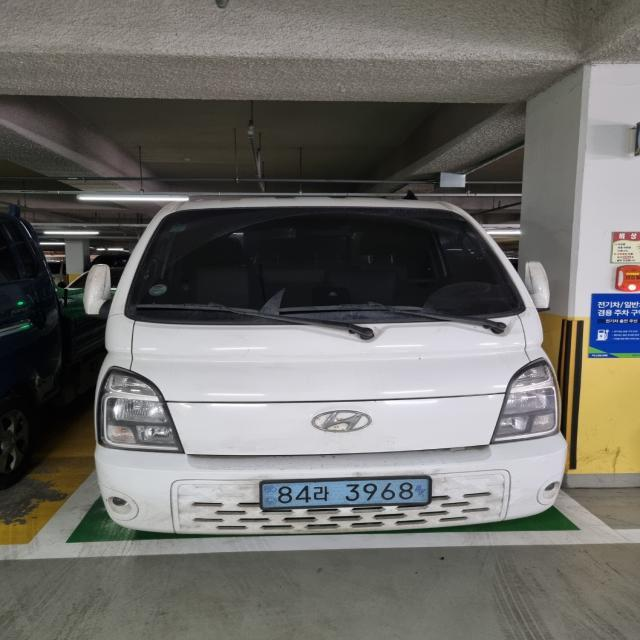car: (252, 471, 442, 516)
carev: (410, 474, 437, 515), (259, 476, 276, 513)
